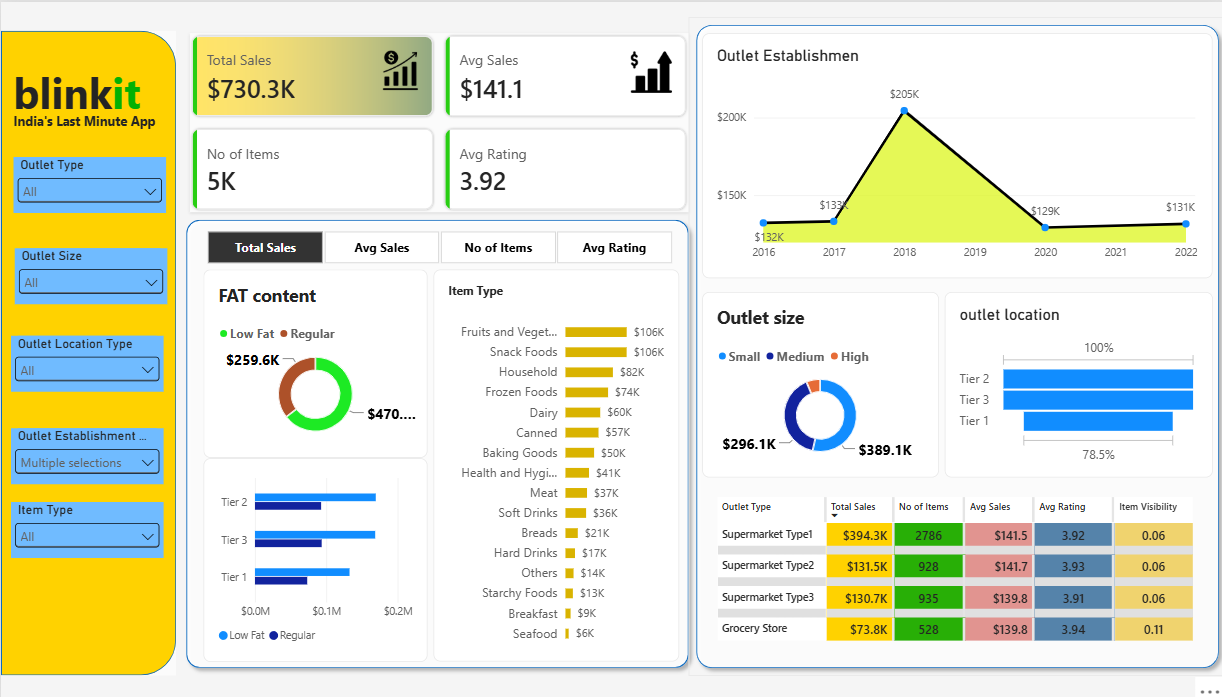

The dashboard page shown, as its layout file describes it:
{"tool":"powerbi","page":{"name":"Page 1","canvas":[1400,800],"ordinal":0},"visuals":[{"type":"shape","box":[0,33.3,200,736.7],"z":0},{"type":"textbox","box":[14.3,70,200,78.6],"z":1000},{"type":"textbox","box":[14.5,125.5,174.3,22.9],"z":2000},{"type":"cardVisual","fields":{"Data":["BlinkIT Grocery Data.Total Sales","BlinkIT Grocery Data.Avg Sales","BlinkIT Grocery Data.No of Items","BlinkIT Grocery Data.Avg Rating"]},"box":[215,35,570,205],"z":3000},{"type":"shape","box":[203,240,592,530],"z":4000},{"type":"donutChart","title":"FAT content","fields":{"Category":["BlinkIT Grocery Data.Item Fat Content"],"Y":["BlinkIT Grocery Data.Total Sales"]},"box":[231.2,306.2,256.2,215],"z":5000},{"type":"slicer","fields":{"Values":["metrics 2.metrics"]},"box":[215,260,570,40],"z":6000},{"type":"clusteredBarChart","fields":{"Category":["BlinkIT Grocery Data.Outlet Location Type"],"Series":["BlinkIT Grocery Data.Item Fat Content"],"Y":["BlinkIT Grocery Data.Total Sales"]},"box":[231,521,256,233],"z":7000},{"type":"barChart","title":" Item Type","fields":{"Category":["BlinkIT Grocery Data.Item Type"],"Y":["BlinkIT Grocery Data.Total Sales"]},"box":[494,306,281,448],"z":8000},{"type":"shape","box":[785,17,615,753],"z":9000},{"type":"lineChart","title":"Outlet Establishmen","fields":{"Category":["BlinkIT Grocery Data.Outlet Establishment Year"],"Y":["BlinkIT Grocery Data.Total Sales"]},"box":[802,35,583,280],"z":10000},{"type":"donutChart","title":"Outlet size","fields":{"Category":["BlinkIT Grocery Data.Outlet Size"],"Y":["BlinkIT Grocery Data.Total Sales"]},"box":[802,331,270,212],"z":11000},{"type":"funnel","title":"outlet location","fields":{"Category":["BlinkIT Grocery Data.Outlet Location Type"],"Y":["BlinkIT Grocery Data.Total Sales"]},"box":[1079,331,306,212],"z":12000},{"type":"pivotTable","title":"OUTLET TYPE","fields":{"Rows":["BlinkIT Grocery Data.Outlet Type"],"Values":["BlinkIT Grocery Data.Total Sales","BlinkIT Grocery Data.No of Items","BlinkIT Grocery Data.Avg Sales","BlinkIT Grocery Data.Avg Rating","Avg(BlinkIT Grocery Data.Item Visibility)"]},"box":[803.3,551.1,582.2,203.3],"z":13000},{"type":"slicer","fields":{"Values":["BlinkIT Grocery Data.Outlet Size"]},"box":[15,281.7,174.3,64.3],"z":13001},{"type":"slicer","fields":{"Values":["BlinkIT Grocery Data.Outlet Type"]},"box":[14.4,176.7,174.3,64.3],"z":13002},{"type":"slicer","fields":{"Values":["BlinkIT Grocery Data.Outlet Location Type"]},"box":[11.7,381.7,174.3,64.3],"z":13003},{"type":"slicer","fields":{"Values":["BlinkIT Grocery Data.Outlet Establishment Year"]},"box":[11.7,486.7,174.3,64.3],"z":13004},{"type":"slicer","fields":{"Values":["BlinkIT Grocery Data.Item Type"]},"box":[11.7,571.7,174.3,64.3],"z":13005}]}

Visuals, with their boxes in screenshot pixels (x1, y1, x2, y2), scaled from the page's 1400x800 canvas onto the 1222x697 screenshot:
shape: crop(0, 29, 175, 671)
textbox: crop(12, 61, 187, 129)
textbox: crop(13, 109, 165, 129)
cardVisual - BlinkIT Grocery Data.Total Sales x BlinkIT Grocery Data.Avg Sales: crop(188, 30, 685, 209)
shape: crop(177, 209, 694, 671)
"FAT content" donutChart: crop(202, 267, 425, 454)
slicer - metrics 2.metrics: crop(188, 227, 685, 261)
clusteredBarChart - BlinkIT Grocery Data.Outlet Location Type x BlinkIT Grocery Data.Item Fat Content: crop(202, 454, 425, 657)
" Item Type" barChart: crop(431, 267, 676, 657)
shape: crop(685, 15, 1221, 671)
"Outlet Establishmen" lineChart: crop(700, 30, 1209, 274)
"Outlet size" donutChart: crop(700, 288, 936, 473)
"outlet location" funnel: crop(942, 288, 1209, 473)
"OUTLET TYPE" pivotTable: crop(701, 480, 1209, 657)
slicer - BlinkIT Grocery Data.Outlet Size: crop(13, 245, 165, 301)
slicer - BlinkIT Grocery Data.Outlet Type: crop(13, 154, 165, 210)
slicer - BlinkIT Grocery Data.Outlet Location Type: crop(10, 333, 162, 389)
slicer - BlinkIT Grocery Data.Outlet Establishment Year: crop(10, 424, 162, 480)
slicer - BlinkIT Grocery Data.Item Type: crop(10, 498, 162, 554)
